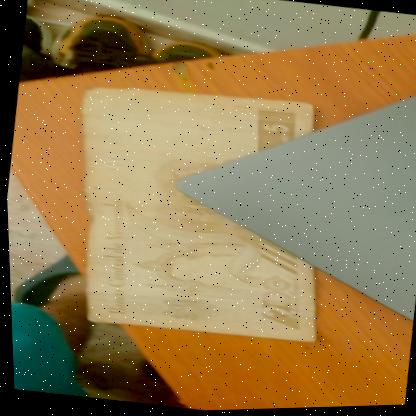five-back-vef: (49, 71, 345, 354)
